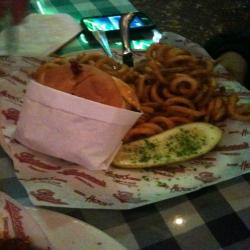bread: (110, 122, 229, 171)
burger: (21, 59, 137, 181)
